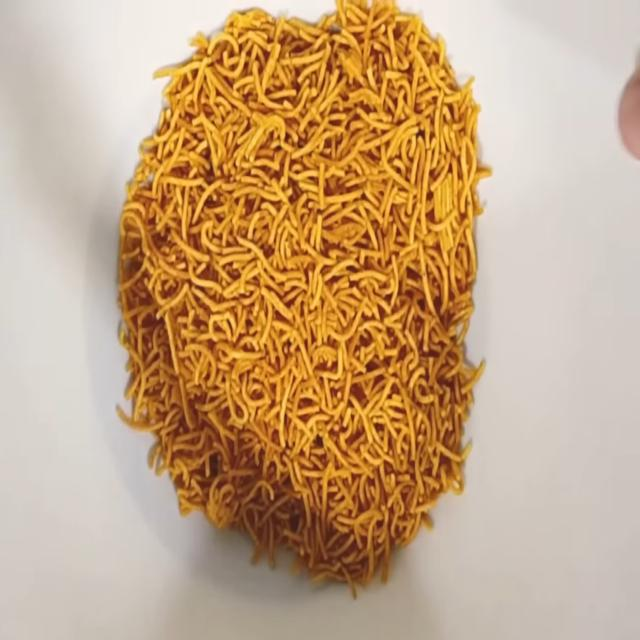Mattai: (112, 0, 495, 597)
